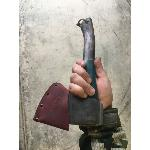Kapak: (28, 11, 122, 143)
